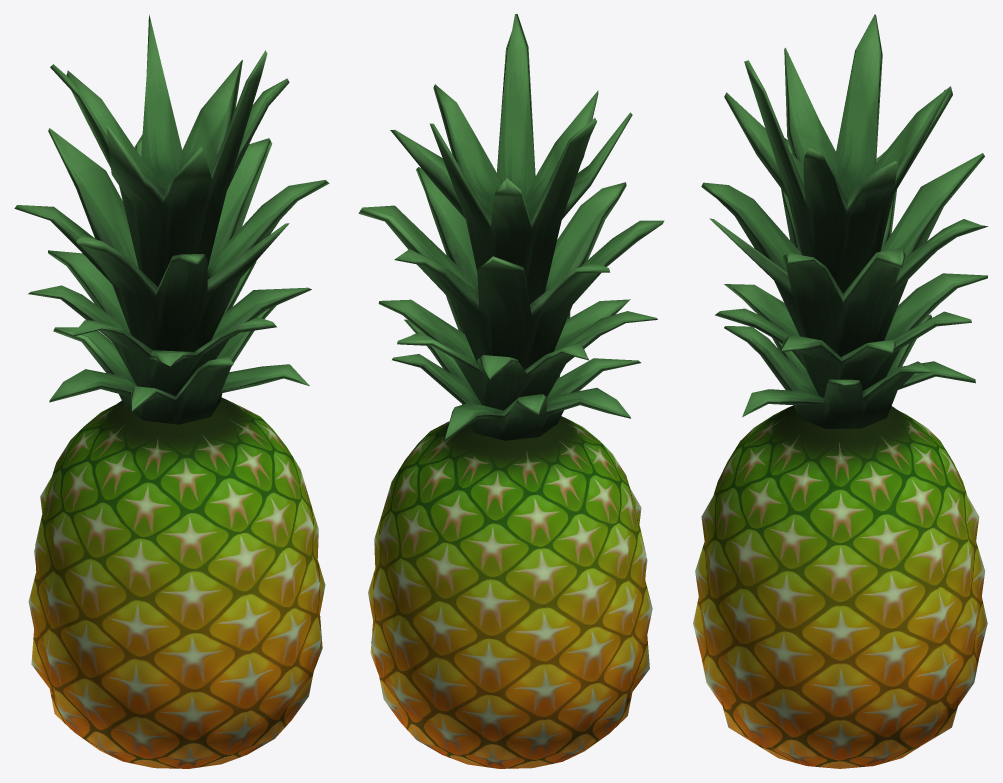
Rendered from Pineapple_Ripe.fbx.
The picture shows the model from 3 angles, left to right: view 1: azimuth 30°, elevation 25°; view 2: azimuth 150°, elevation 25°; view 3: azimuth 270°, elevation 25°; orthographic projection. The views are drawn at different scales.
Parts seen in each view (by area): view 1: Pineapple_Ripe; view 2: Pineapple_Ripe; view 3: Pineapple_Ripe.
Boxes of the visible parts, <box> form: Pineapple_Ripe: <box>14,14,329,768</box>; Pineapple_Ripe: <box>358,14,664,768</box>; Pineapple_Ripe: <box>693,14,988,768</box>.
Size of the model in its own units: 56.79 by 148 by 56.31.
